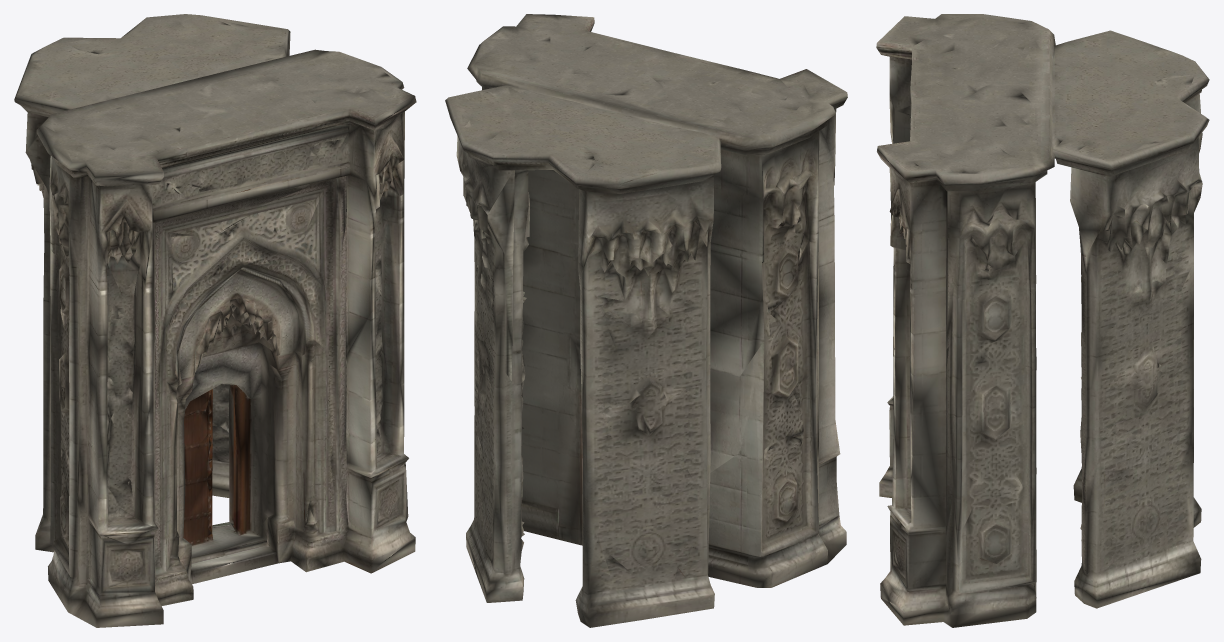
Rendered from city_erzurum_lace_portal.glb.
The picture shows the model from 3 angles, left to right: view 1: azimuth 30°, elevation 25°; view 2: azimuth 150°, elevation 25°; view 3: azimuth 270°, elevation 25°; orthographic projection.
Parts seen in each view (by area): view 1: Mesh1.0; view 2: Mesh1.0; view 3: Mesh1.0.
Part boxes in pixels (x1,y1,x2,y2): Mesh1.0: (14,14,416,627); Mesh1.0: (445,14,847,627); Mesh1.0: (876,14,1209,627).
Size of the model in its own units: 3.1 by 4 by 2.65.
1 material, 1 textured.
